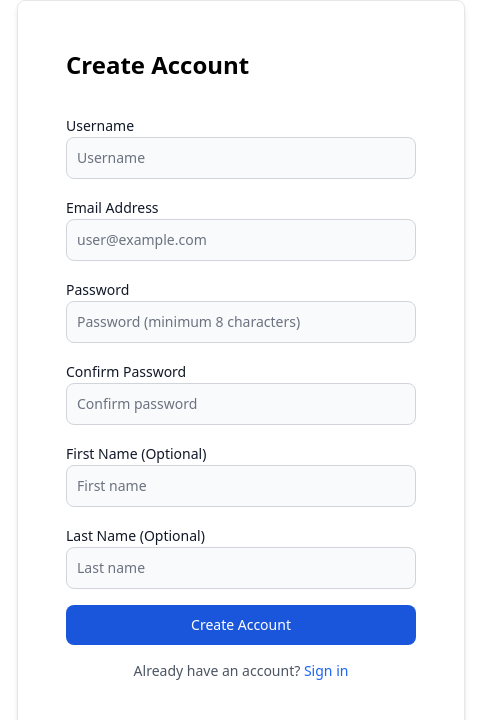
it: Register › shows error message for invalid email format
The image size is (483, 720).
Type "testuser" into the field labelled "Username". click: (241, 158)
box: [66,137,416,179]
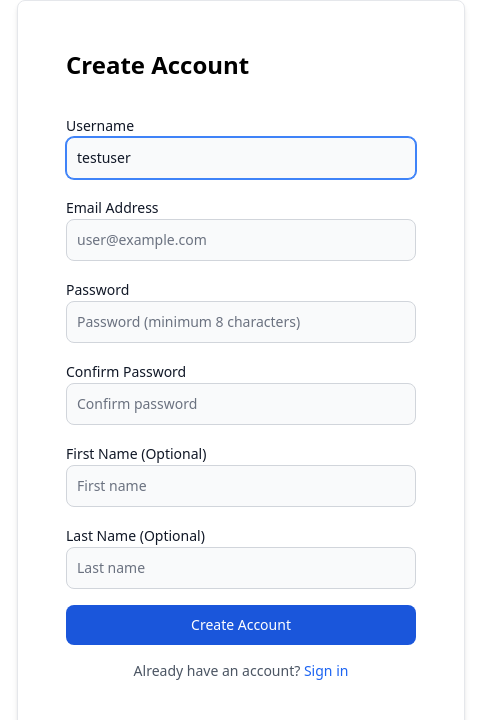
Type "invalid-email" into the field labelled "Email Address". click: (241, 240)
box: [66,219,416,261]
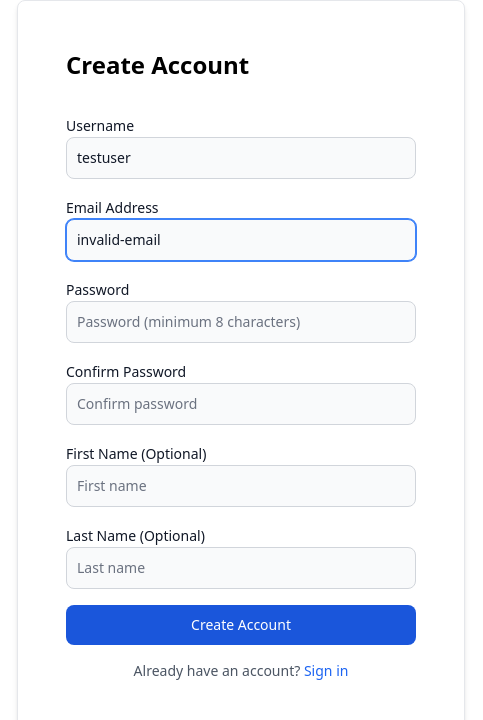
Type "testpass123" into the password field labelled "Password". click: (241, 322)
box: [66,301,416,343]
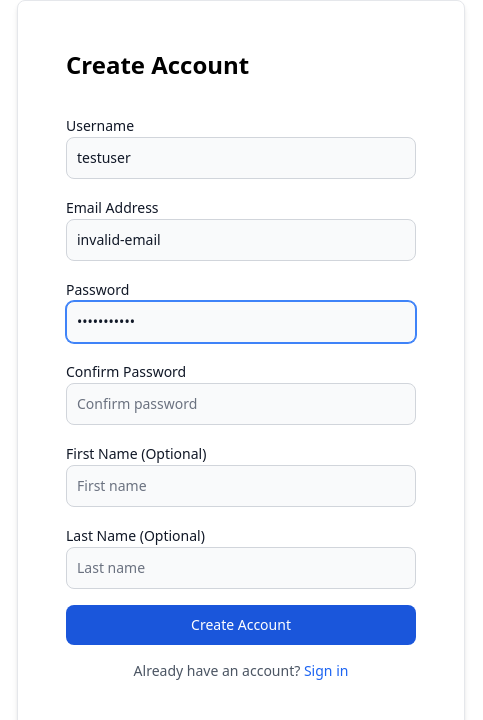
Type "testpass123" into the password field labelled "Confirm Password". click: (241, 404)
box: [66,383,416,425]
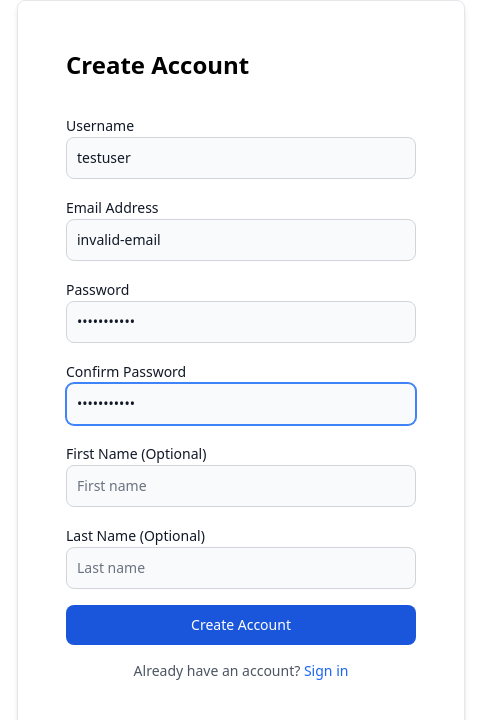
Click the button "Create Account". click: (241, 625)
box: [66,605,416,645]
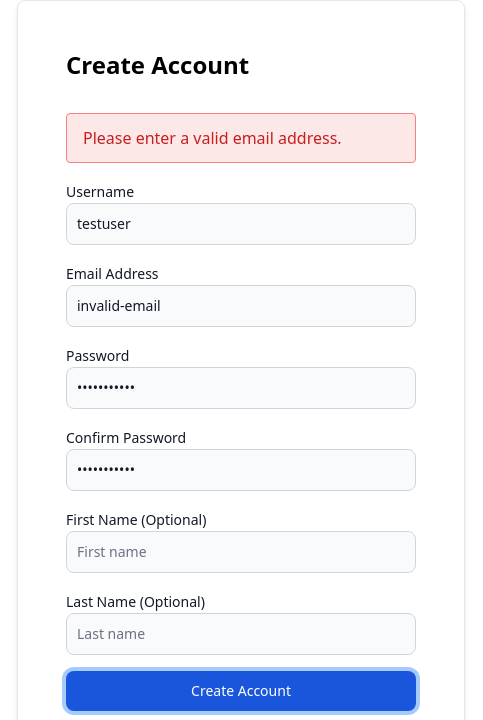
Expected: the text "Please enter a valid email address." is shown, [66,113,416,163]
